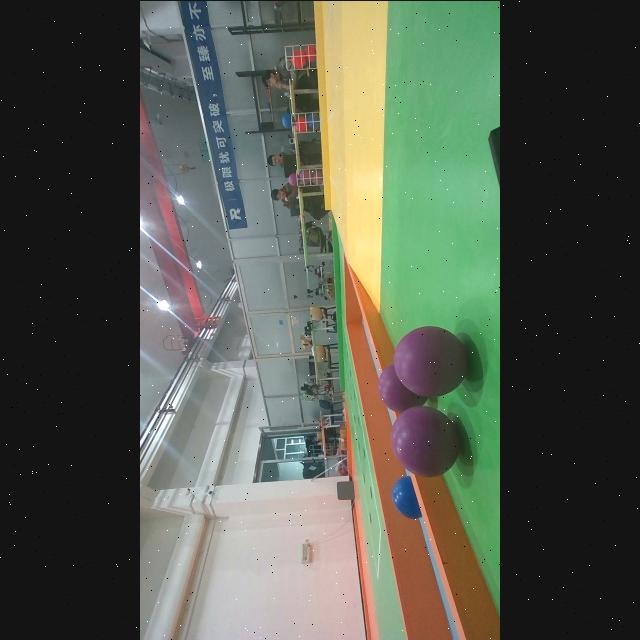B: (388, 474, 424, 516)
P: (394, 326, 468, 396), (391, 406, 459, 476), (377, 368, 425, 412)
S: (282, 44, 322, 72), (290, 112, 326, 134), (296, 166, 326, 188)
